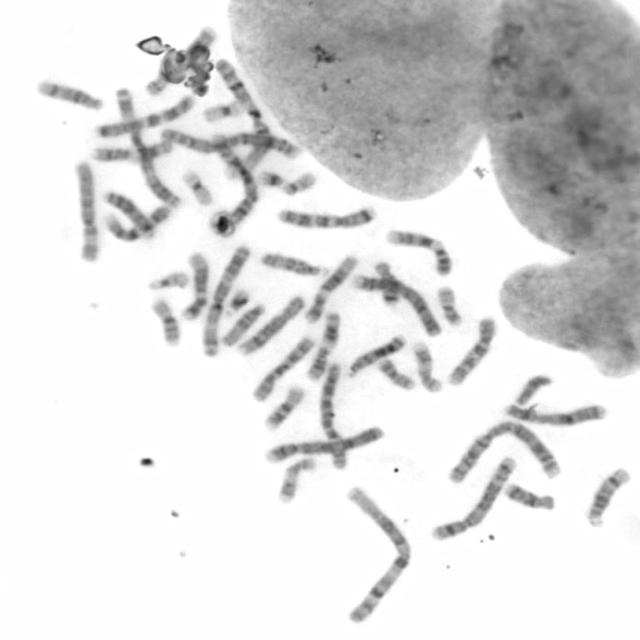A1: (338, 482, 413, 627), (212, 55, 276, 181)
A2: (442, 418, 564, 485), (156, 124, 304, 160)
A3: (112, 84, 183, 208), (195, 240, 253, 358)
B4: (349, 269, 444, 339), (260, 422, 386, 465)
B5: (427, 452, 519, 542), (205, 130, 262, 228)
C10: (247, 332, 315, 404), (443, 314, 499, 387)
C11: (302, 308, 342, 382), (87, 136, 175, 164)
C12: (300, 251, 360, 324), (177, 247, 211, 322)
C6: (69, 158, 103, 263), (318, 362, 349, 472)
C7: (92, 91, 196, 139), (273, 202, 377, 231)
C8: (145, 23, 218, 97), (233, 291, 308, 358)
C9: (383, 225, 454, 278), (100, 200, 174, 243)
D13: (341, 330, 407, 380), (100, 186, 158, 242)
D14: (582, 464, 630, 527), (34, 74, 106, 113)
D15: (218, 300, 266, 348), (257, 248, 328, 277)
E16: (258, 382, 307, 433), (147, 295, 184, 347)
E17: (273, 452, 320, 507), (409, 337, 443, 395)
E18: (502, 479, 557, 512), (370, 258, 400, 307)
F19: (178, 165, 215, 208), (199, 96, 247, 124)
F20: (375, 354, 417, 392), (433, 282, 465, 328)
G21: (221, 285, 253, 317), (255, 167, 287, 189)
G22: (279, 169, 320, 197), (143, 268, 190, 292)
X: (500, 398, 608, 426)
Y: (509, 370, 553, 408)
